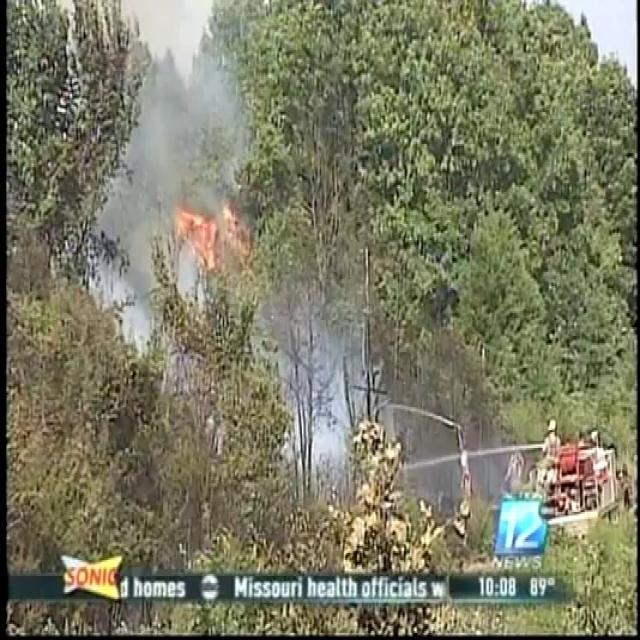Fire: (169, 197, 224, 279)
Smoke: (95, 7, 255, 341), (278, 278, 365, 482)
